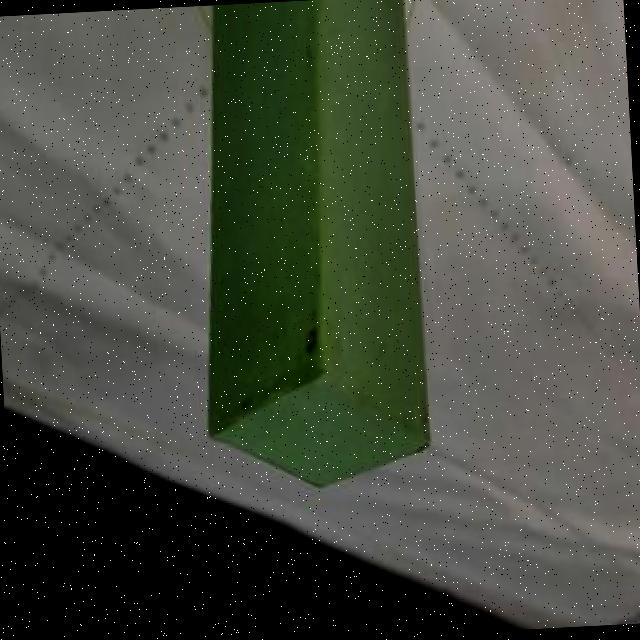greenbox: (182, 0, 434, 498)
